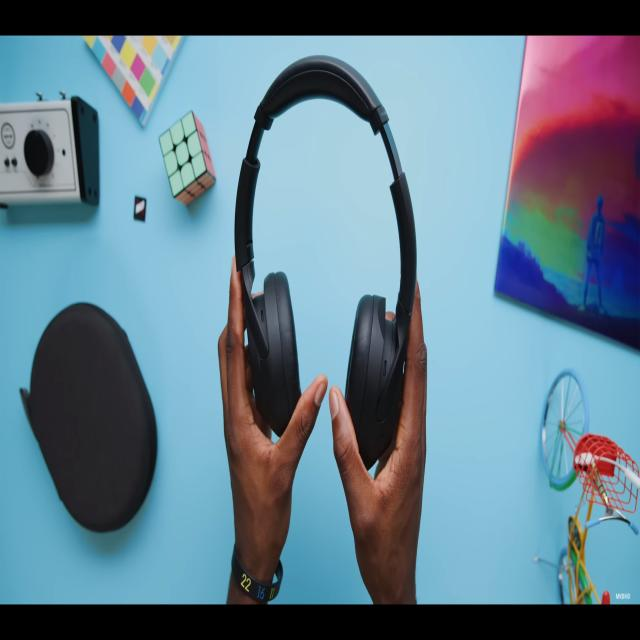Headphone: (234, 54, 418, 470)
